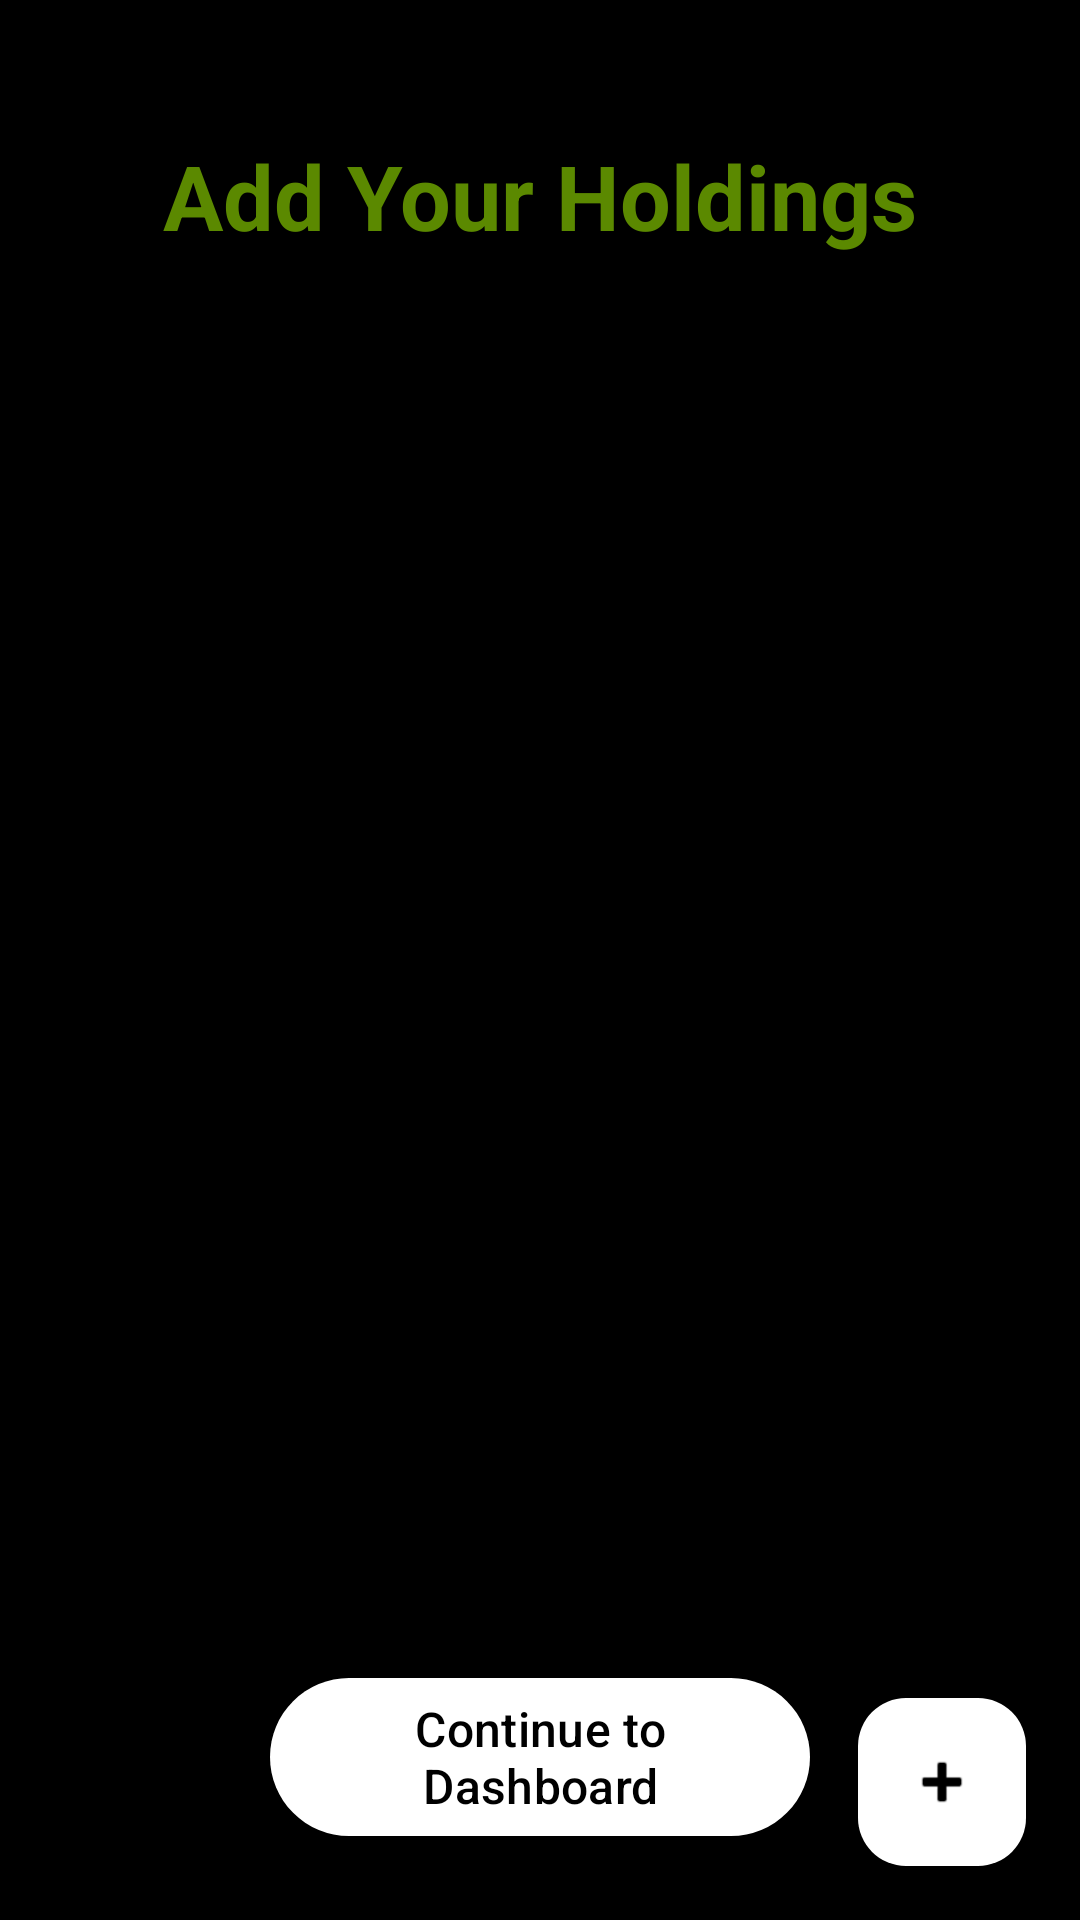

Icon click points for this 1080px×1920px phone screenshot, format (x=x, y=y):
Add Holding: (x=942, y=1782)
